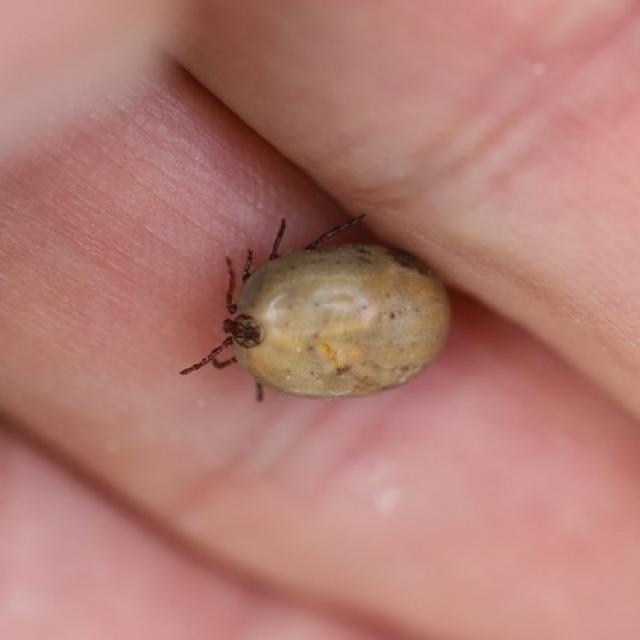Dermacentor Reticulatus-F-Fed: (179, 213, 451, 403)
